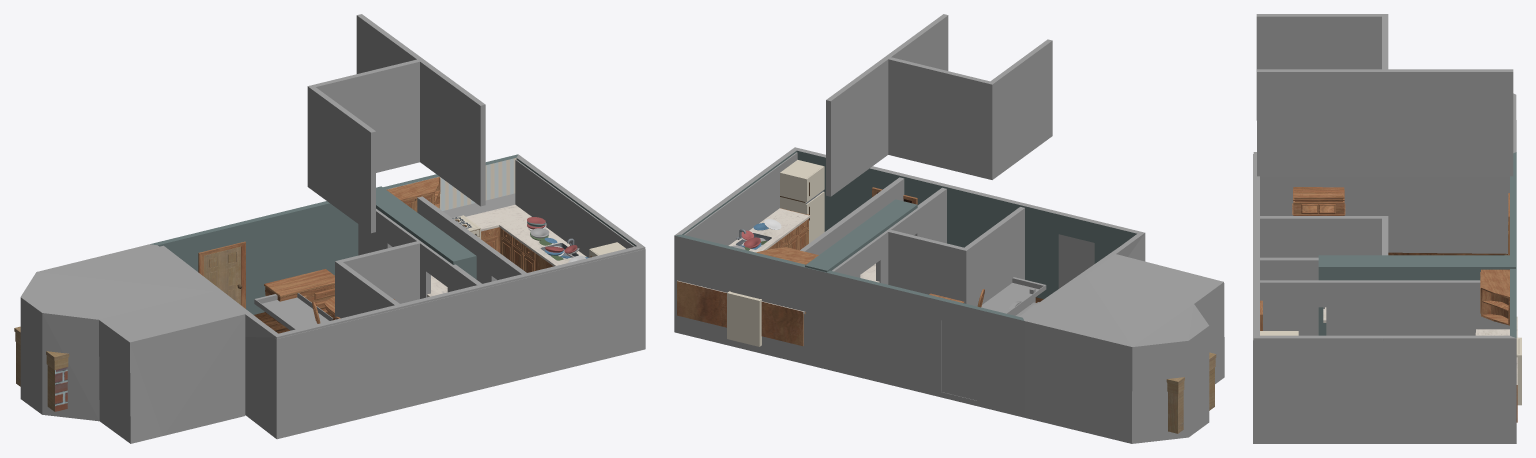
Rendered from floor1withTextures.fbx.
The picture shows the model from 3 angles, left to right: view 1: azimuth 30°, elevation 25°; view 2: azimuth 150°, elevation 25°; view 3: azimuth 270°, elevation 25°; orthographic projection. The views are drawn at different scales.
Visible parts, largest first — view 1: texture2:walls, texture2:floor3withdoors_pCube14, texture2:pCube17 (×2), texture2:pCube15, texture2:pCube18 (×2), texture2:floor3withdoors_pCube15, texture2:pCube7, texture2:pCube16, texture2:pCube43, texture2:small_dresser, texture2:pCube14, texture2:fireplace (+3 smaller); view 2: texture2:walls, texture2:pCube17 (×2), texture2:pCube18 (×2), texture2:pCube15, texture2:floor3withdoors_pCube14, texture2:pCube43, texture2:floor3withdoors_pCube15, texture2:pCube7, texture2:pCube16, texture2:pCube13, texture2:pCube66, texture2:fireplace (+3 smaller); view 3: texture2:floor3withdoors_pCube14, texture2:pCube15, texture2:pCube18 (×2), texture2:pCube16, texture2:walls, texture2:pCube7, texture2:floor3withdoors_pCube15, texture2:pCube55, texture2:Living_room_china_cabinet:cabinet_main, texture2:pCube43, texture2:pCube17, texture2:pCube13.
Boxes of the visible parts, bbox=[...] form: texture2:walls: bbox=[20, 154, 645, 443]; texture2:floor3withdoors_pCube14: bbox=[160, 159, 645, 439]; texture2:pCube17 (×2): bbox=[307, 59, 419, 303]; texture2:pCube15: bbox=[356, 14, 485, 206]; texture2:pCube18 (×2): bbox=[308, 85, 399, 319]; texture2:floor3withdoors_pCube15: bbox=[358, 208, 481, 298]; texture2:pCube7: bbox=[376, 186, 476, 297]; texture2:pCube16: bbox=[417, 196, 526, 283]; texture2:pCube43: bbox=[466, 204, 586, 270]; texture2:small_dresser: bbox=[264, 269, 334, 323]; texture2:pCube14: bbox=[254, 293, 332, 330]; texture2:fireplace: bbox=[14, 326, 69, 411]; texture2:walls: bbox=[674, 147, 1224, 443]; texture2:pCube17 (×2): bbox=[888, 57, 994, 300]; texture2:pCube18 (×2): bbox=[961, 39, 1052, 306]; texture2:pCube15: bbox=[826, 14, 948, 196]; texture2:floor3withdoors_pCube14: bbox=[684, 152, 1144, 400]; texture2:pCube43: bbox=[677, 208, 810, 346]; texture2:floor3withdoors_pCube15: bbox=[832, 187, 946, 284]; texture2:pCube7: bbox=[805, 199, 917, 282]; texture2:pCube16: bbox=[800, 177, 904, 254]; texture2:pCube13: bbox=[727, 291, 761, 346]; texture2:pCube66: bbox=[780, 160, 823, 214]; texture2:fireplace: bbox=[1166, 352, 1216, 433]; texture2:floor3withdoors_pCube14: bbox=[1253, 154, 1516, 443]; texture2:pCube15: bbox=[1257, 69, 1513, 176]; texture2:pCube18 (×2): bbox=[1256, 14, 1388, 257]; texture2:pCube16: bbox=[1260, 280, 1509, 335]; texture2:walls: bbox=[1253, 93, 1516, 443]; texture2:pCube7: bbox=[1318, 255, 1515, 335]; texture2:floor3withdoors_pCube15: bbox=[1260, 257, 1324, 335]; texture2:pCube55: bbox=[1481, 269, 1509, 325]; texture2:Living_room_china_cabinet:cabinet_main: bbox=[1292, 187, 1345, 215]; texture2:pCube43: bbox=[1475, 316, 1517, 422]; texture2:pCube17: bbox=[1382, 14, 1388, 69]; texture2:pCube13: bbox=[1516, 337, 1521, 405].
Bounding box in the file's own units: 60.46 × 31.39 × 26.14.
